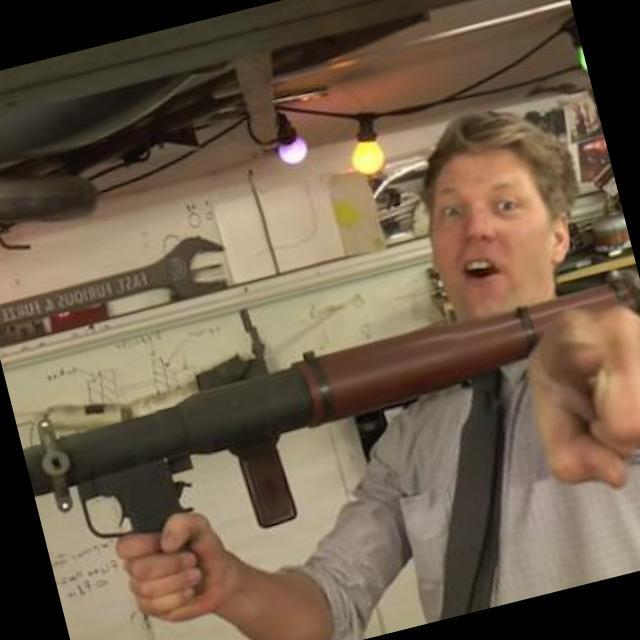rocket: (19, 294, 582, 576)
